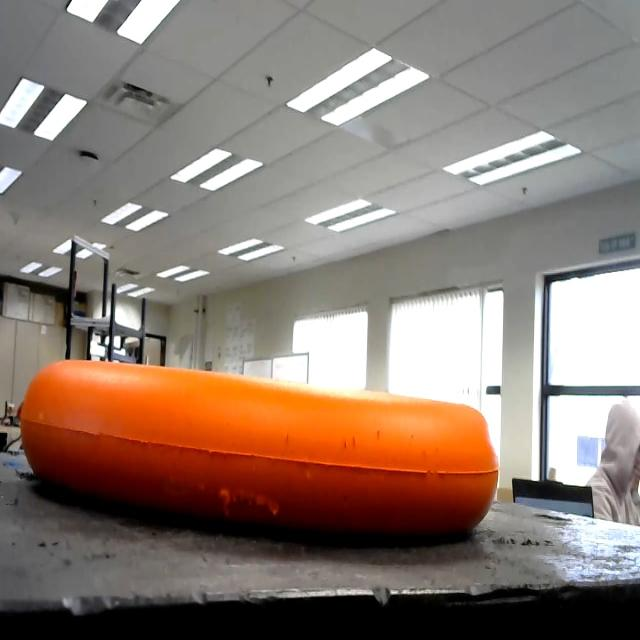note: (22, 351, 512, 557)
